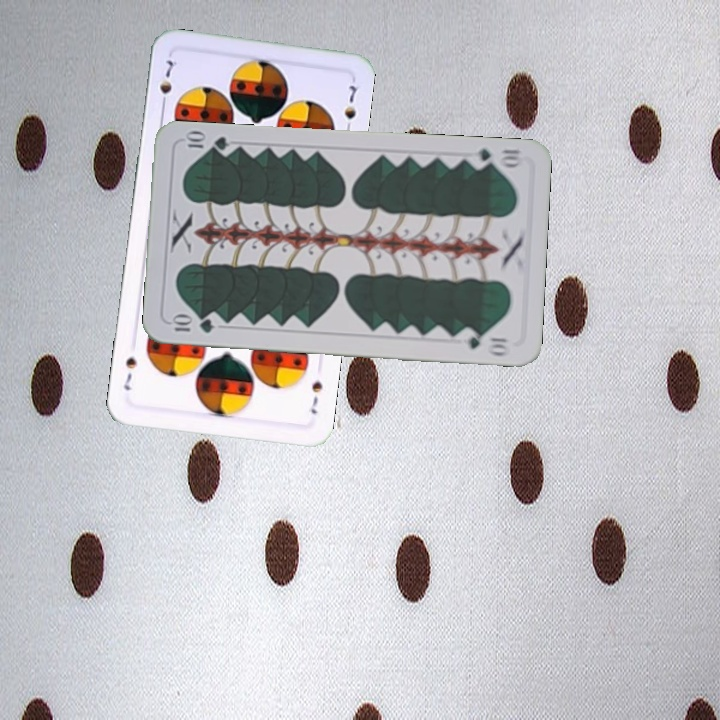G10: (466, 144, 525, 172), (168, 313, 217, 335)
S7: (155, 53, 180, 112), (306, 377, 326, 417)
